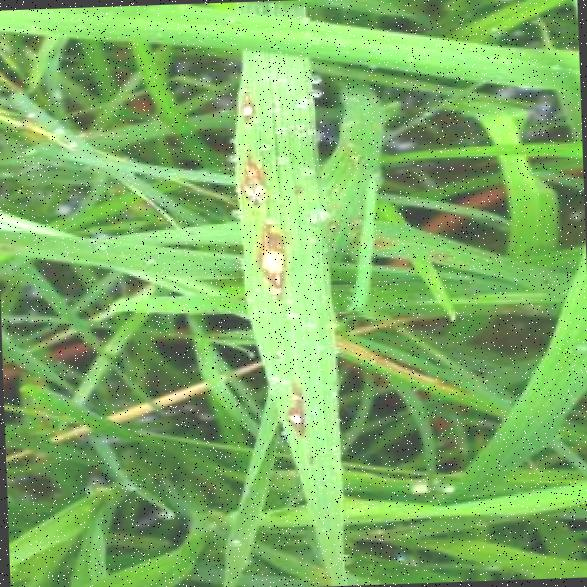Leaf_smut: (234, 143, 294, 215), (250, 209, 298, 289), (273, 379, 324, 451), (226, 75, 278, 139)
